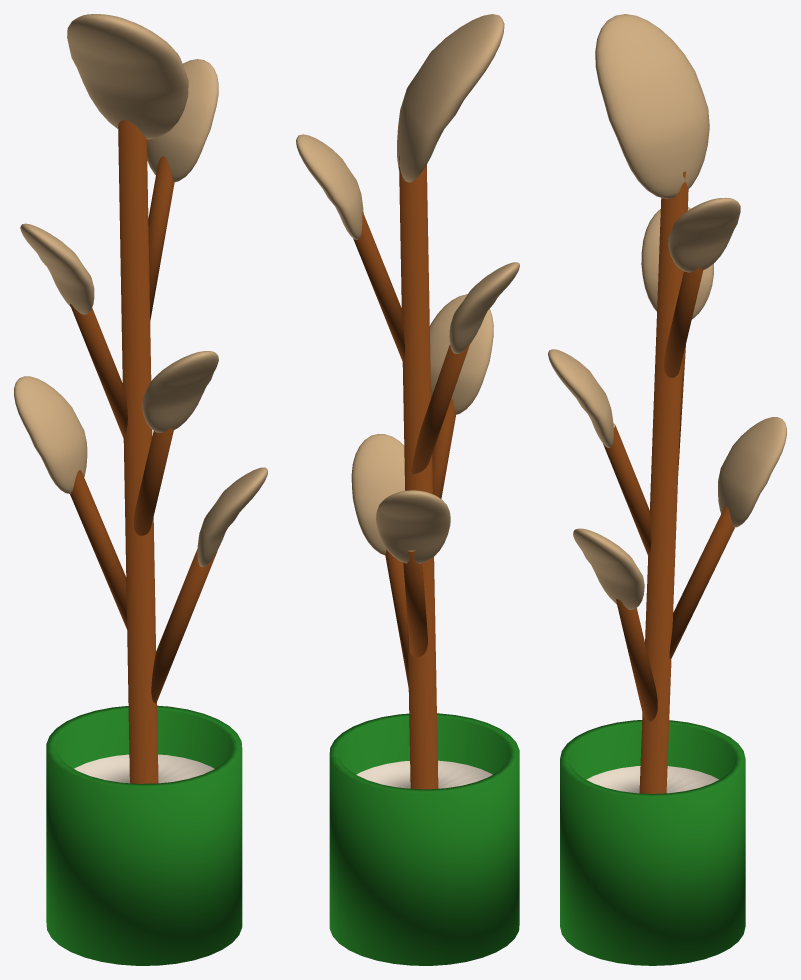
The model's file is Plant.fbx.
The picture shows the model from 3 angles, left to right: view 1: azimuth 30°, elevation 25°; view 2: azimuth 150°, elevation 25°; view 3: azimuth 270°, elevation 25°; orthographic projection. The views are drawn at different scales.
Parts seen in each view (by area): view 1: Cylinder; view 2: Cylinder; view 3: Cylinder.
Boxes of the visible parts, x1,y1,x2,y2 form: Cylinder: [14, 14, 267, 965]; Cylinder: [296, 14, 519, 965]; Cylinder: [548, 14, 786, 965].
Bounding box in the file's own units: 242 × 1052 × 258.
